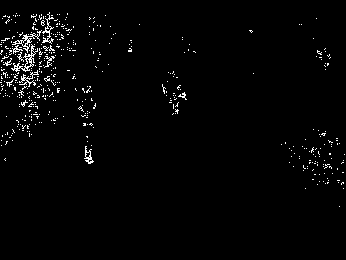person: (74, 84, 102, 165), (163, 71, 186, 117)
